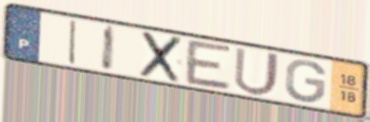E: (184, 37, 235, 93)
G: (283, 58, 329, 104)
I: (99, 23, 119, 74), (66, 18, 80, 67)
U: (231, 45, 282, 98)
X: (137, 29, 185, 85)
